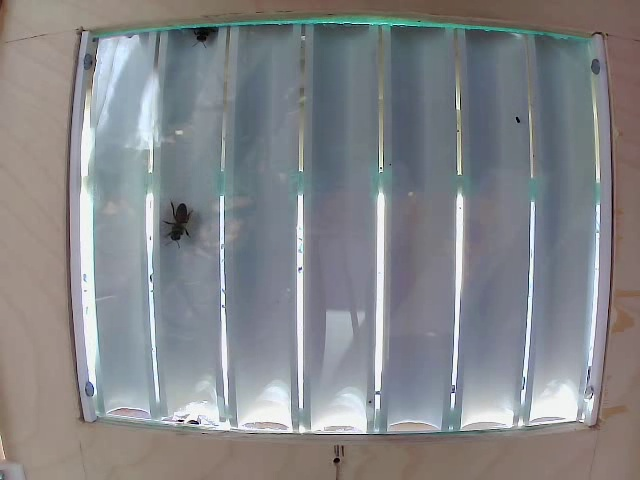bee: (159, 192, 202, 251)
